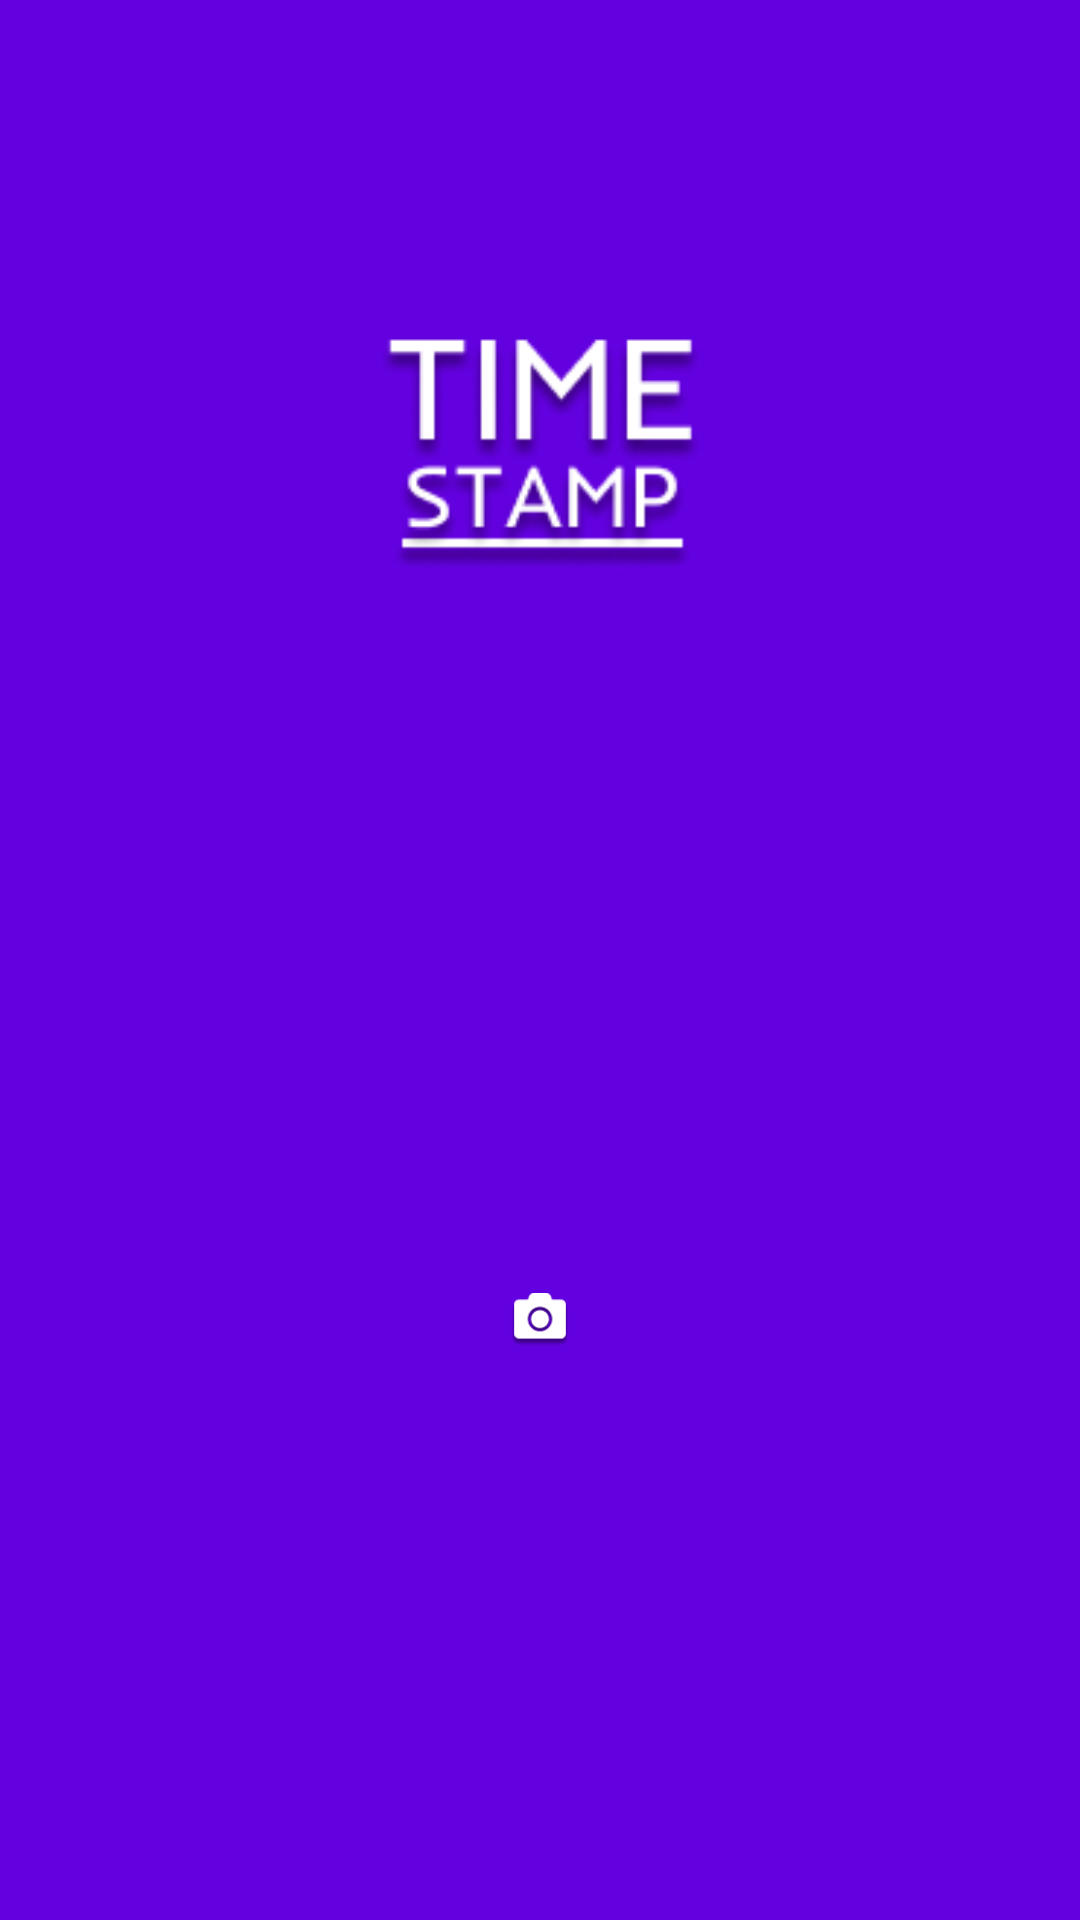

Screen size 1080 × 1920. Icon name, then its box in pixels as (x1, y1, x2, y2):
camerabutton: (513, 1293, 567, 1344)
